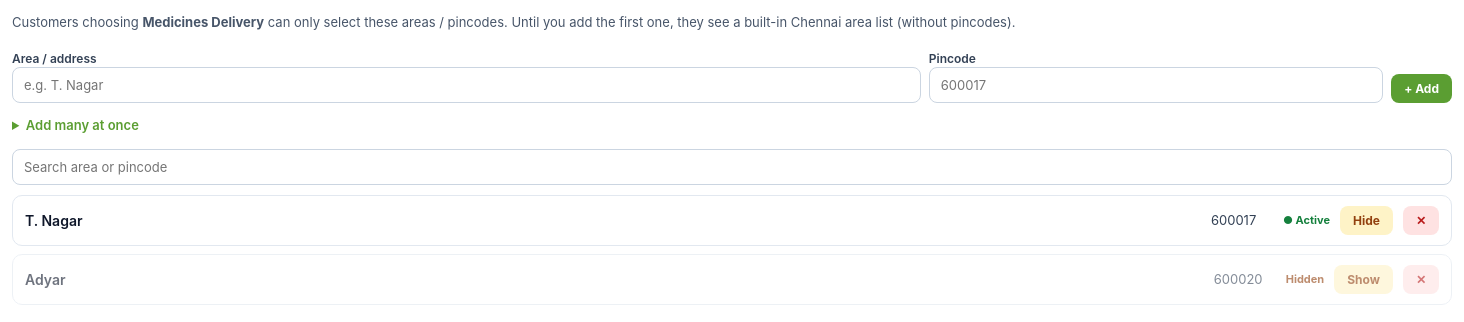
MedicineDeliveryAreas › filters by area or pincode
Expected: the text "T. Nagar" is shown, [25,212,82,229]
Type "600020" into the field named "Search areas".
click(732, 167); type("600020")  # box [12,149,1452,185]
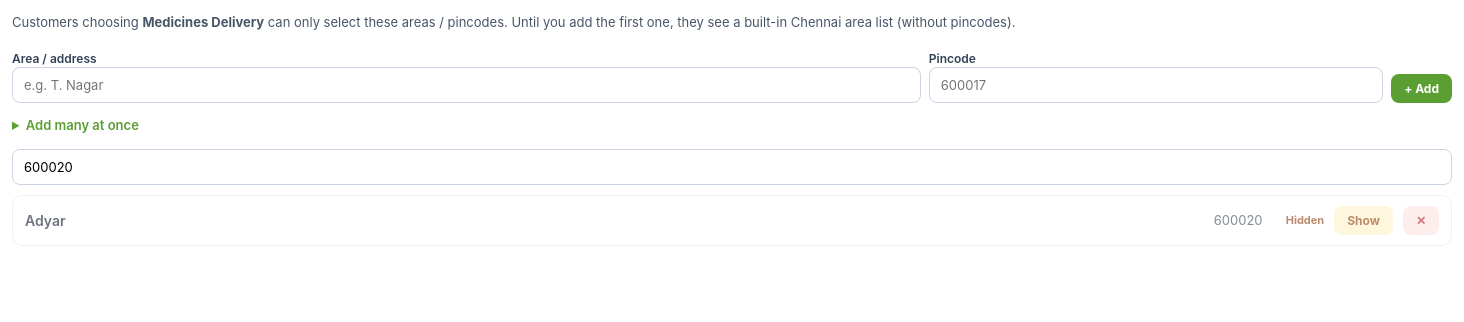
Expected: the text "Adyar" is shown, [25,212,66,229]
Replace the text in the field named "Search areas" with "t. nag" at (732, 167), box [12,149,1452,185]
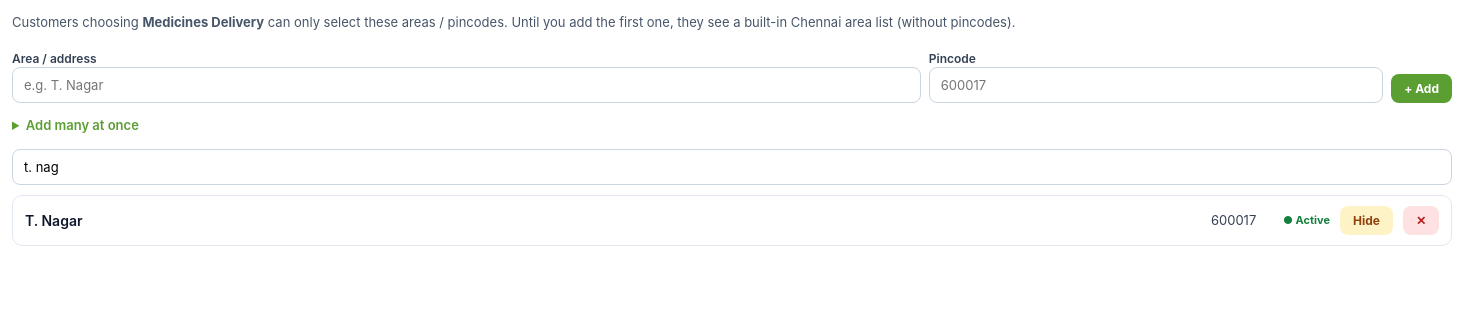
Now the text "Adyar" is gone
Now the text "T. Nagar" is shown, box [25,212,82,229]
